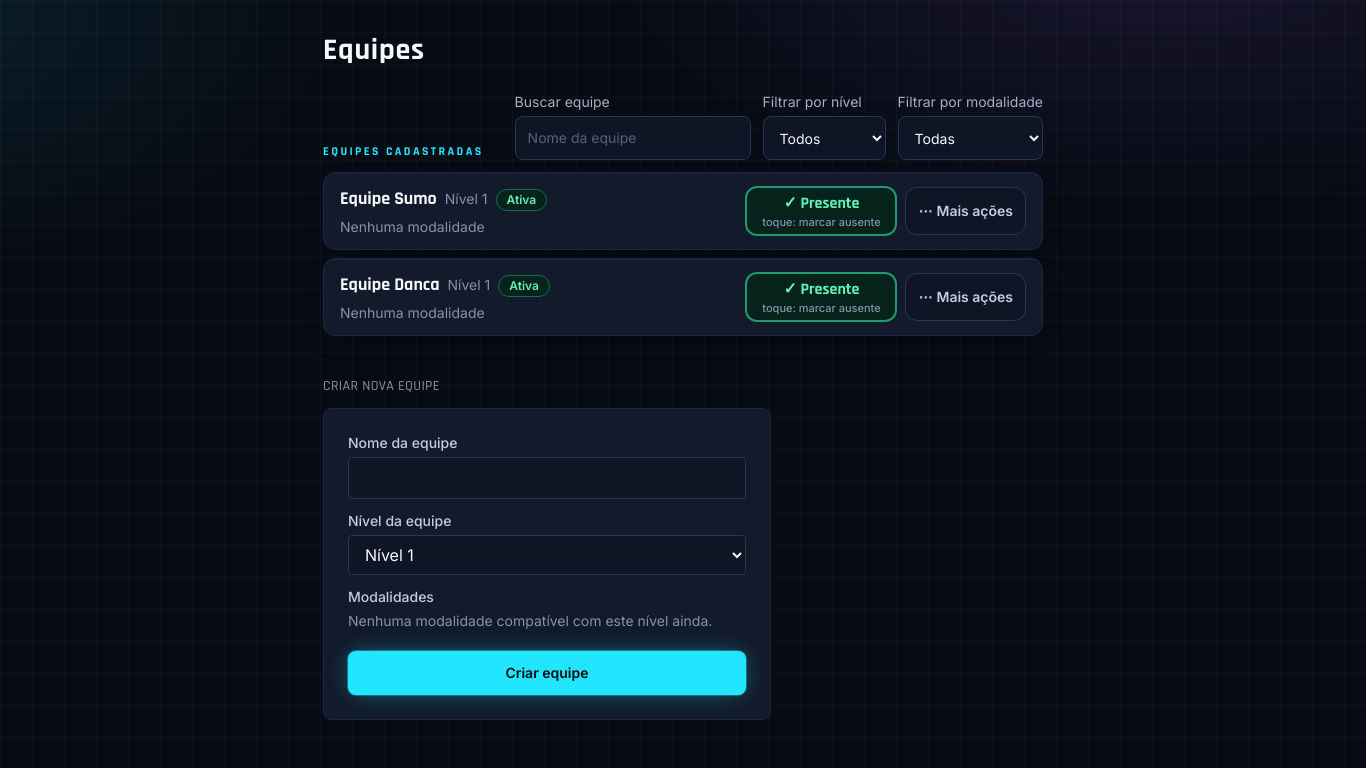
Test: EquipeListPage › filtra equipes por modalidade
The image size is (1366, 768).
Expected: the text "Equipe Sumo" is shown, left=340, top=187, right=437, bottom=210
Expected: the text "Equipe Danca" is shown, left=340, top=273, right=440, bottom=296
Step 1. Select "Sumo" in the dropdown labelled "Filtrar por modalidade" → (970, 138), box left=898, top=116, right=1043, bottom=160
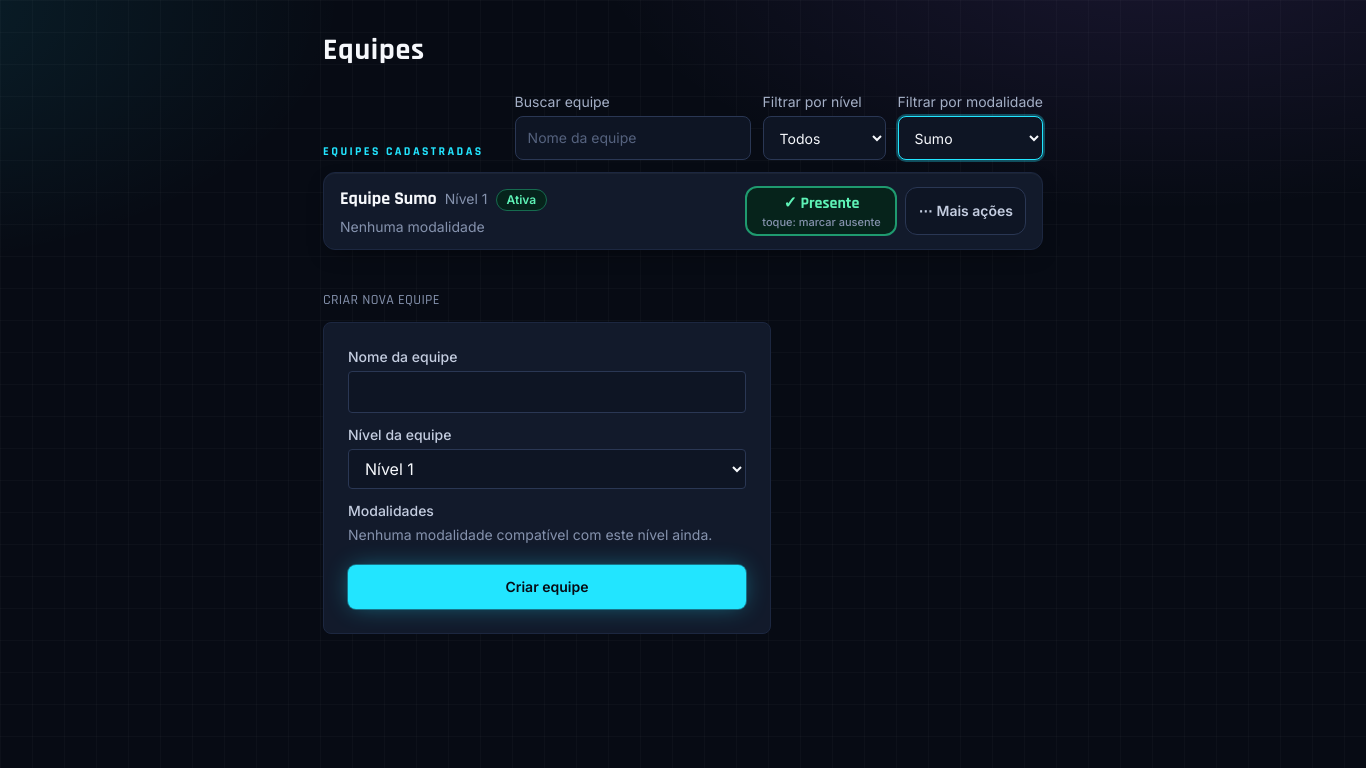
Expected: the text "Equipe Sumo" is shown, left=340, top=187, right=437, bottom=210
Expected: the text "Equipe Danca" is gone
